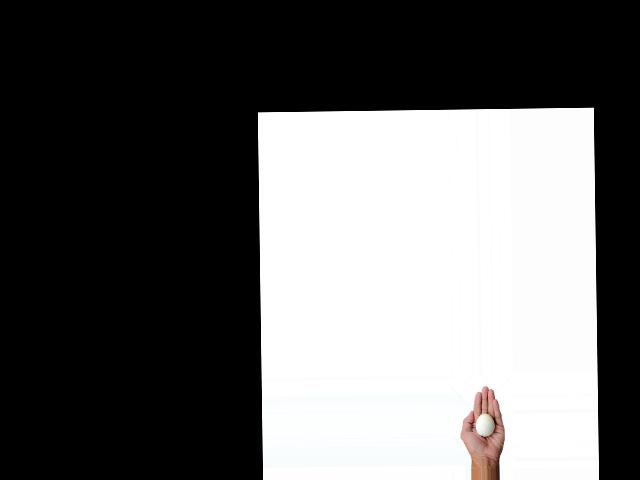egg: (476, 412, 494, 436)
